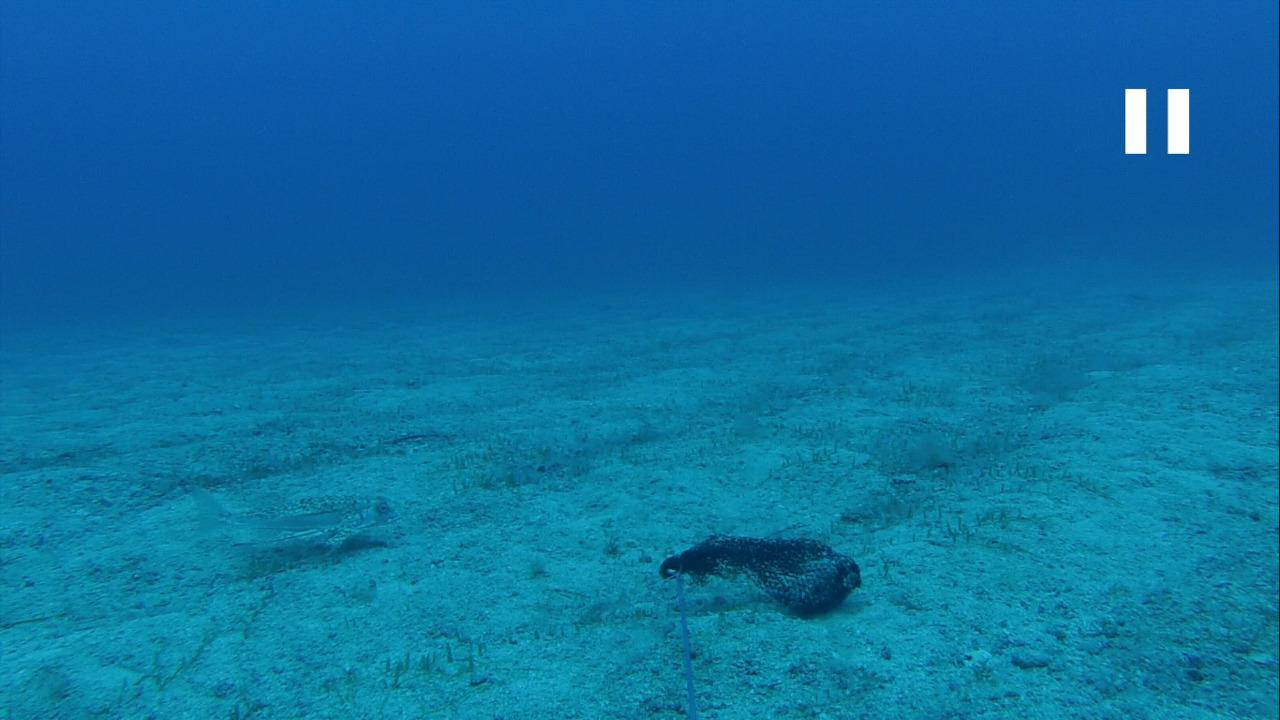dactylopterus: (186, 475, 408, 561)
